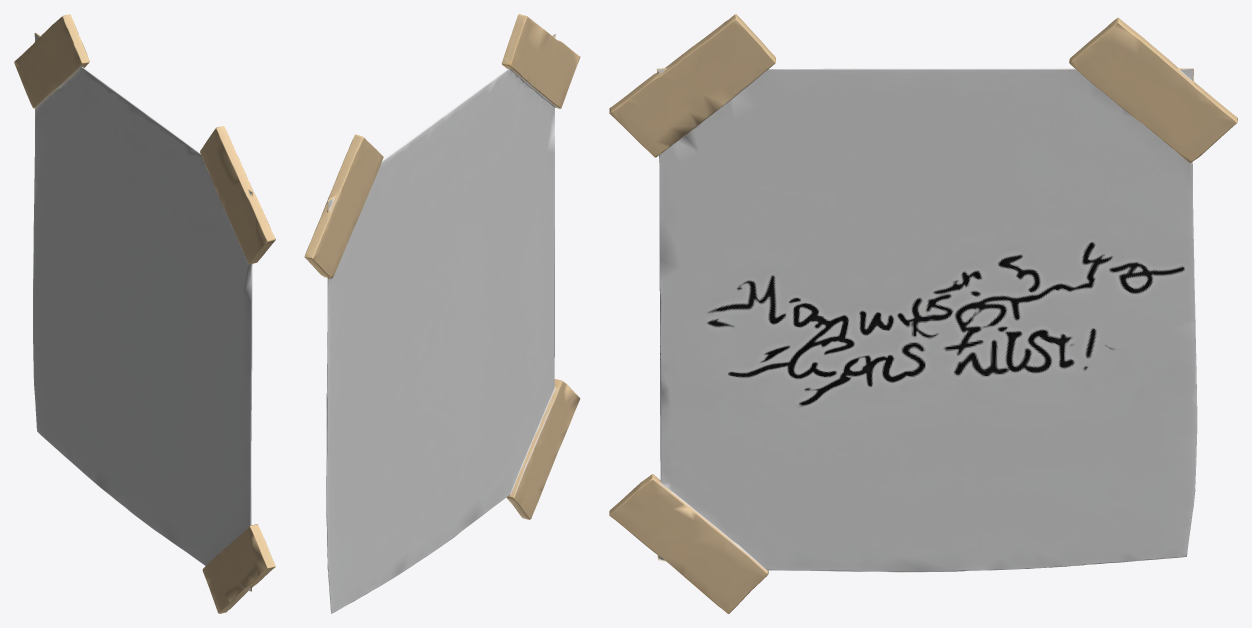
File: sticky note.fbx
3 views of the same model, side by side, from view 1: azimuth 30°, elevation 25°; view 2: azimuth 150°, elevation 25°; view 3: azimuth 270°, elevation 25° (orthographic). The views are drawn at different scales.
Parts seen in each view (by area): view 1: tripo_node_a2bbf5ad; view 2: tripo_node_a2bbf5ad; view 3: tripo_node_a2bbf5ad.
Part boxes in pixels (x1,y1,x2,y2): tripo_node_a2bbf5ad: (14, 14, 275, 613); tripo_node_a2bbf5ad: (304, 14, 580, 613); tripo_node_a2bbf5ad: (609, 14, 1237, 613).
Size of the model in its own units: 0.0229 by 0.9999 by 0.9558.
Materials: 1 (1 with a texture image).
